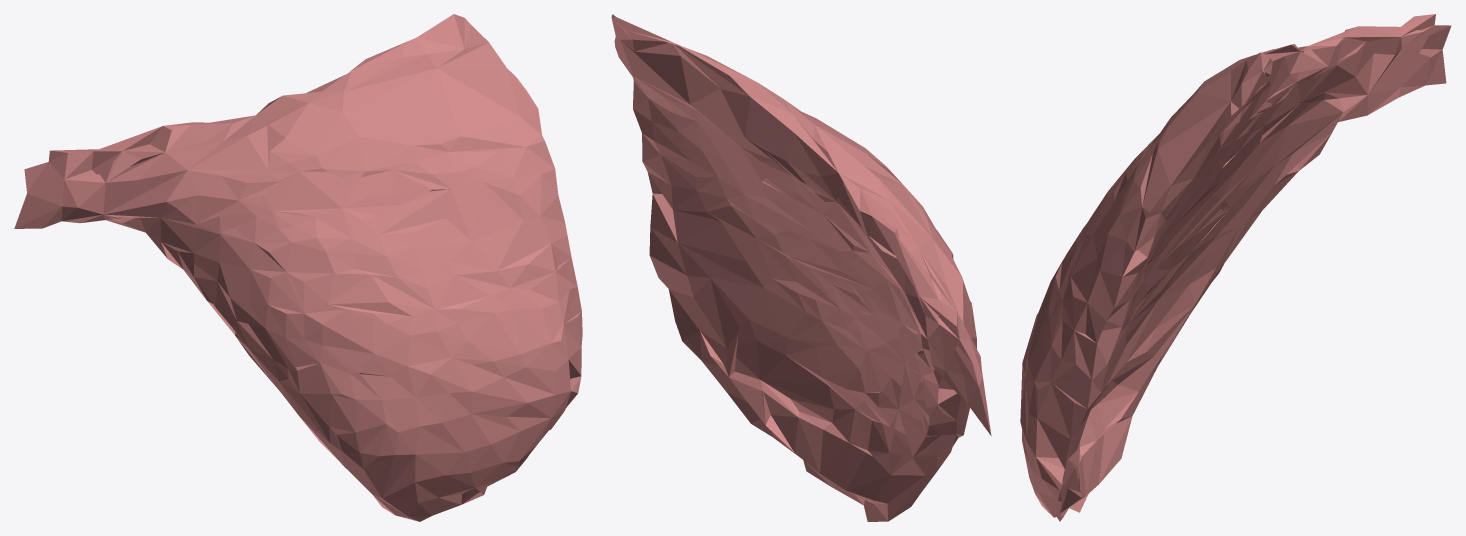
File: Sternocostal_head_of_pectoralis_major_muscle.r.glb
3 views of the same model, side by side, from view 1: azimuth 30°, elevation 25°; view 2: azimuth 150°, elevation 25°; view 3: azimuth 270°, elevation 25° (orthographic). The views are drawn at different scales.
Visible parts, largest first — view 1: Sternocostal_head_of_pectoralis_major_muscle.r; view 2: Sternocostal_head_of_pectoralis_major_muscle.r; view 3: Sternocostal_head_of_pectoralis_major_muscle.r.
Boxes of the visible parts, x1,y1,x2,y2 form: Sternocostal_head_of_pectoralis_major_muscle.r: (14,14,582,521); Sternocostal_head_of_pectoralis_major_muscle.r: (611,14,991,521); Sternocostal_head_of_pectoralis_major_muscle.r: (1020,14,1451,521).
Size of the model in its own units: 0.1853 by 0.1793 by 0.1406.
